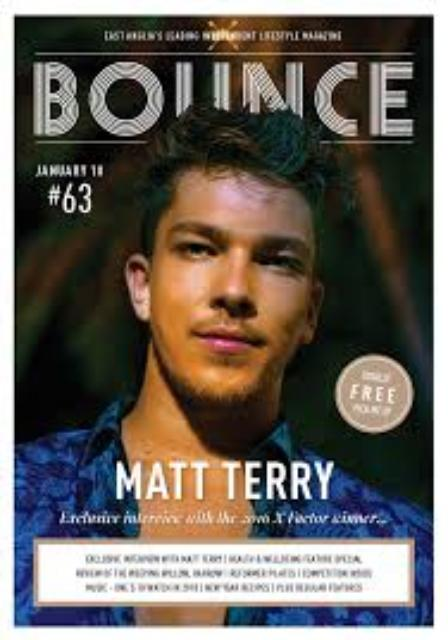cardboard paper: (14, 14, 435, 629)
